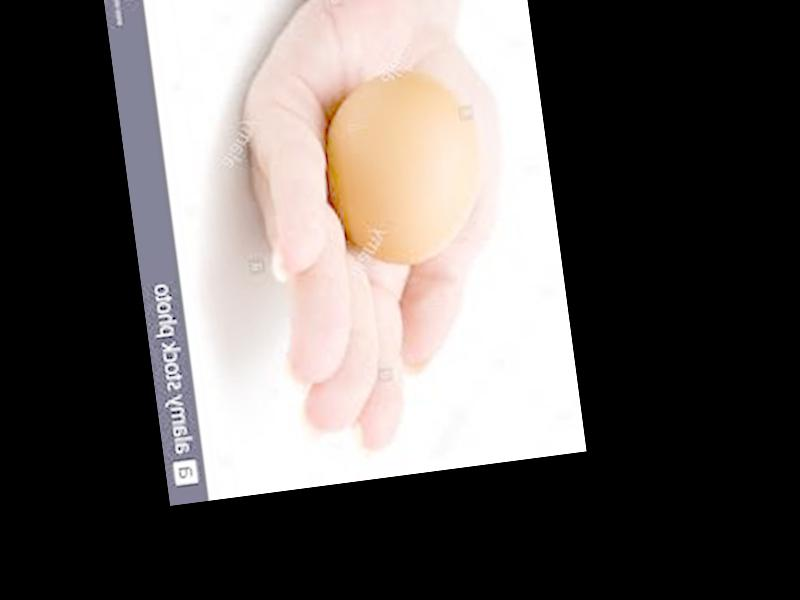Eggs: (317, 60, 496, 271)
